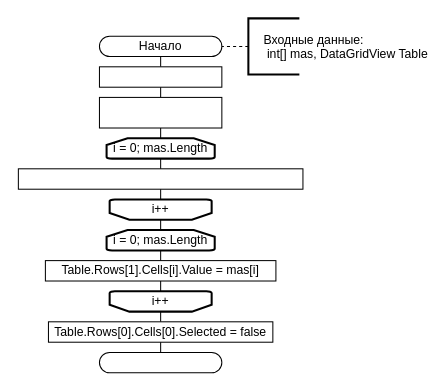
This 446x391 diagram has some shape labels left out. The shapes that lost their labels are listed below. From the top down, each one's box as (x1, y1, x2, y2) in pixels, then its label:
(98, 66, 222, 87): Table.RowCount = 2;
(98, 96, 222, 128): Table.ColumnCount = mas.Length
(17, 168, 303, 189): Table.Rows[0].Cells[i].Value = "[" + i.ToString() + "]"
(98, 351, 222, 373): Конец
